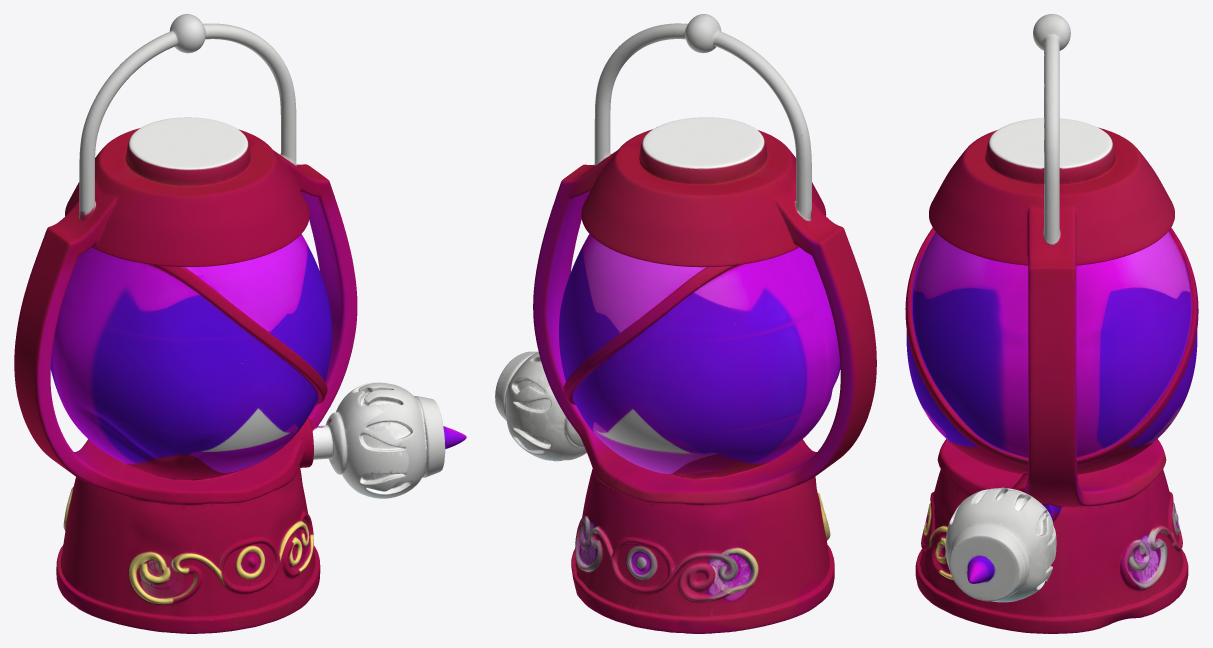
The model's file is magic_lantern.glb.
3 views of the same model, side by side, from view 1: azimuth 30°, elevation 25°; view 2: azimuth 150°, elevation 25°; view 3: azimuth 270°, elevation 25° (orthographic).
Bounding box in the file's own units: 1.42 × 1.9 × 0.896.
Materials: 1 (1 with a texture image).
